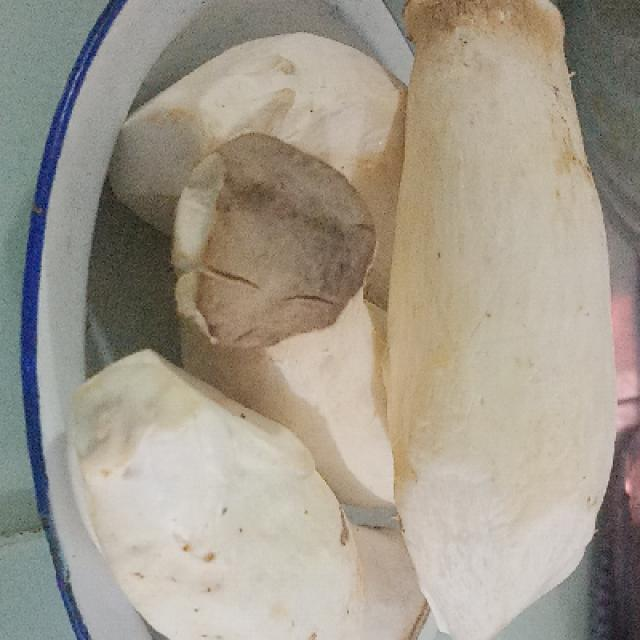Pleurotus eryngii: (67, 0, 619, 640)
